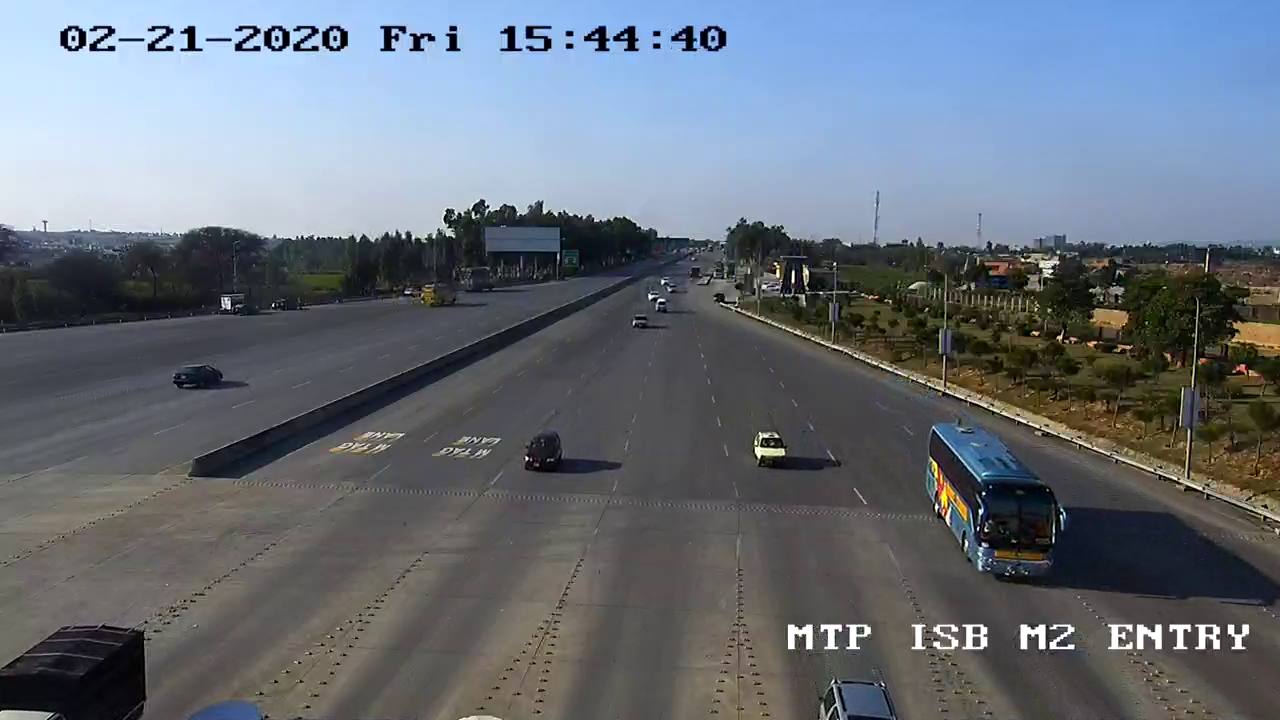f1: (515, 423, 570, 480), (746, 424, 791, 477)
f4: (915, 411, 1071, 594)
